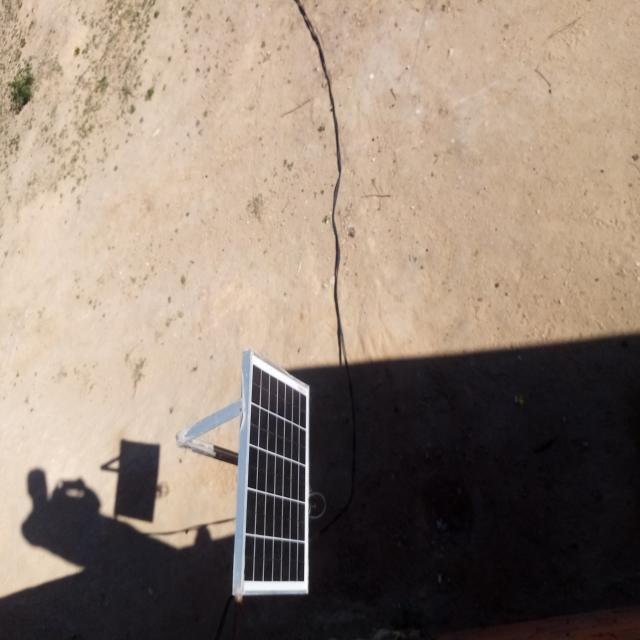no faulty: (239, 352, 311, 592)
